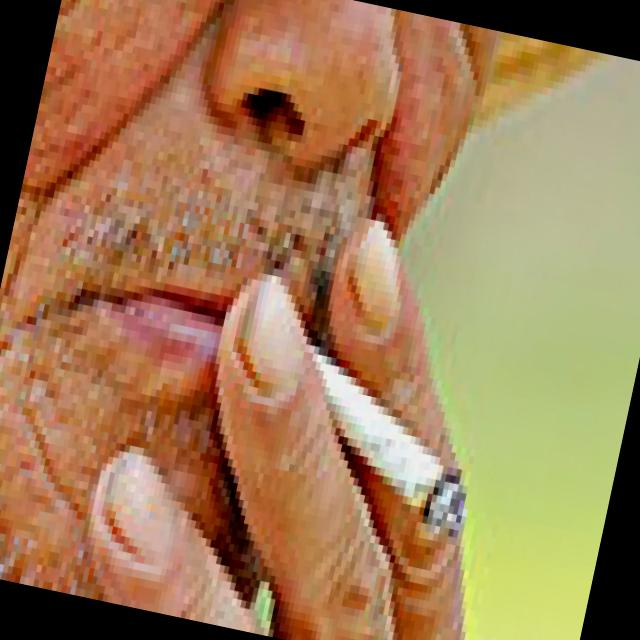smoke: (242, 319, 498, 555)
